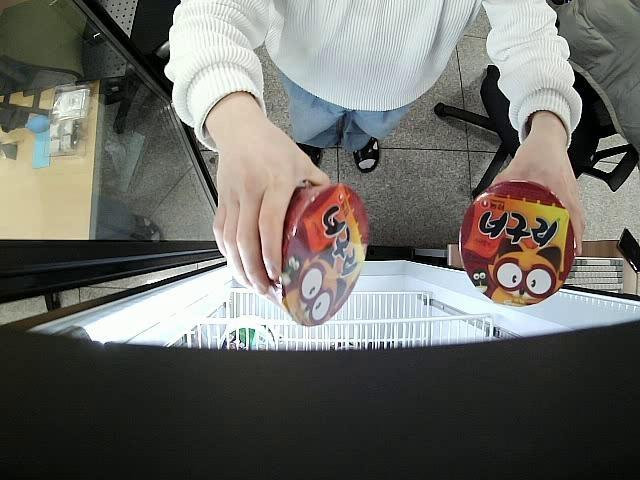05_nuguri_L: (262, 184, 370, 328), (458, 177, 574, 308)
